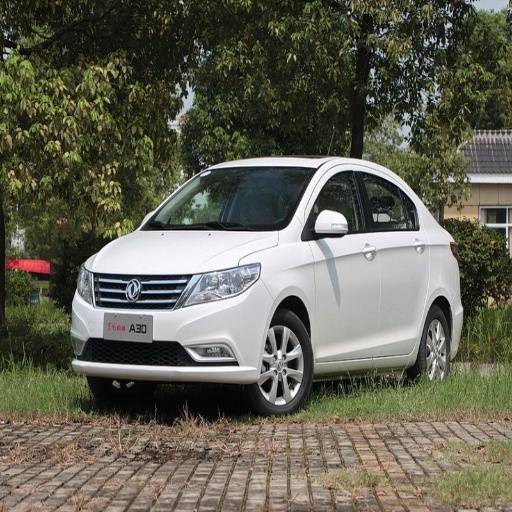back_left_door: (359, 167, 429, 355)
front_bumper: (70, 269, 275, 379)
front_glass: (141, 169, 315, 230)
front_left_door: (305, 166, 378, 360)
